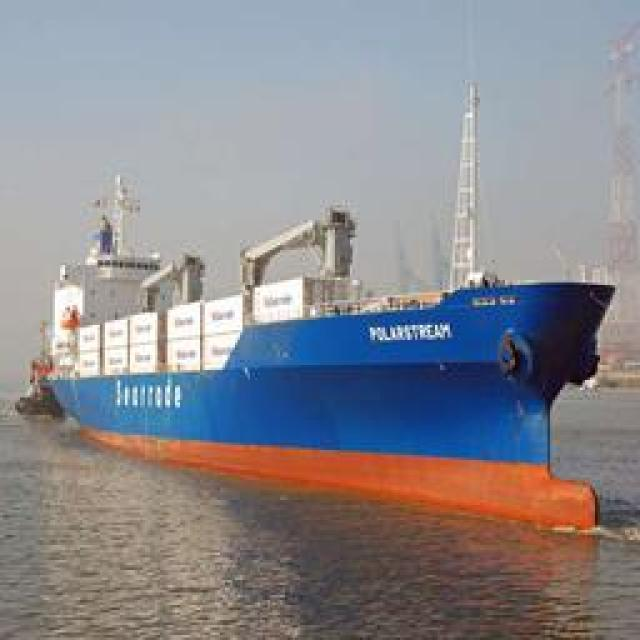CIV_Ship: (39, 204, 612, 542)
